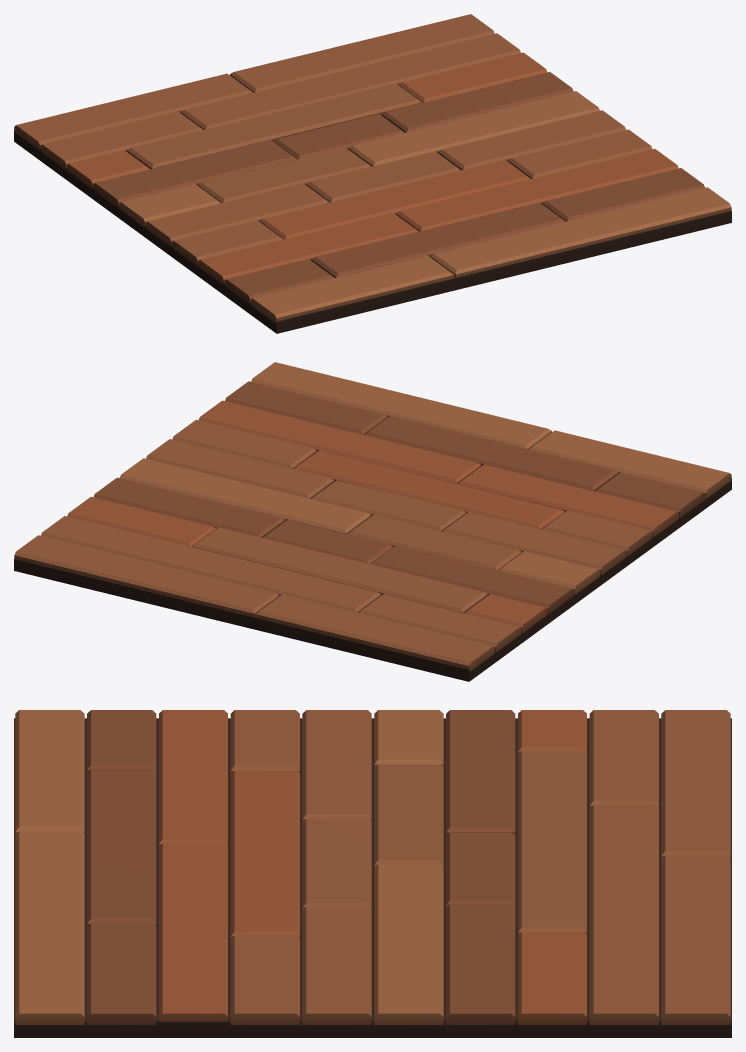
File: floor_planks_large_A.glb
3 renders of one model, top to bottom at view 1: azimuth 30°, elevation 25°; view 2: azimuth 150°, elevation 25°; view 3: azimuth 270°, elevation 25°, orthographic. The views are drawn at different scales.
Visible parts, largest first — view 1: Item; view 2: Item; view 3: Item.
Boxes of the visible parts, x1,y1,x2,y2 form: Item: (14, 14, 731, 333); Item: (14, 362, 731, 681); Item: (14, 710, 731, 1037).
Size of the model in its own units: 4 by 0.1561 by 4.
Materials: 1 (1 with a texture image).
